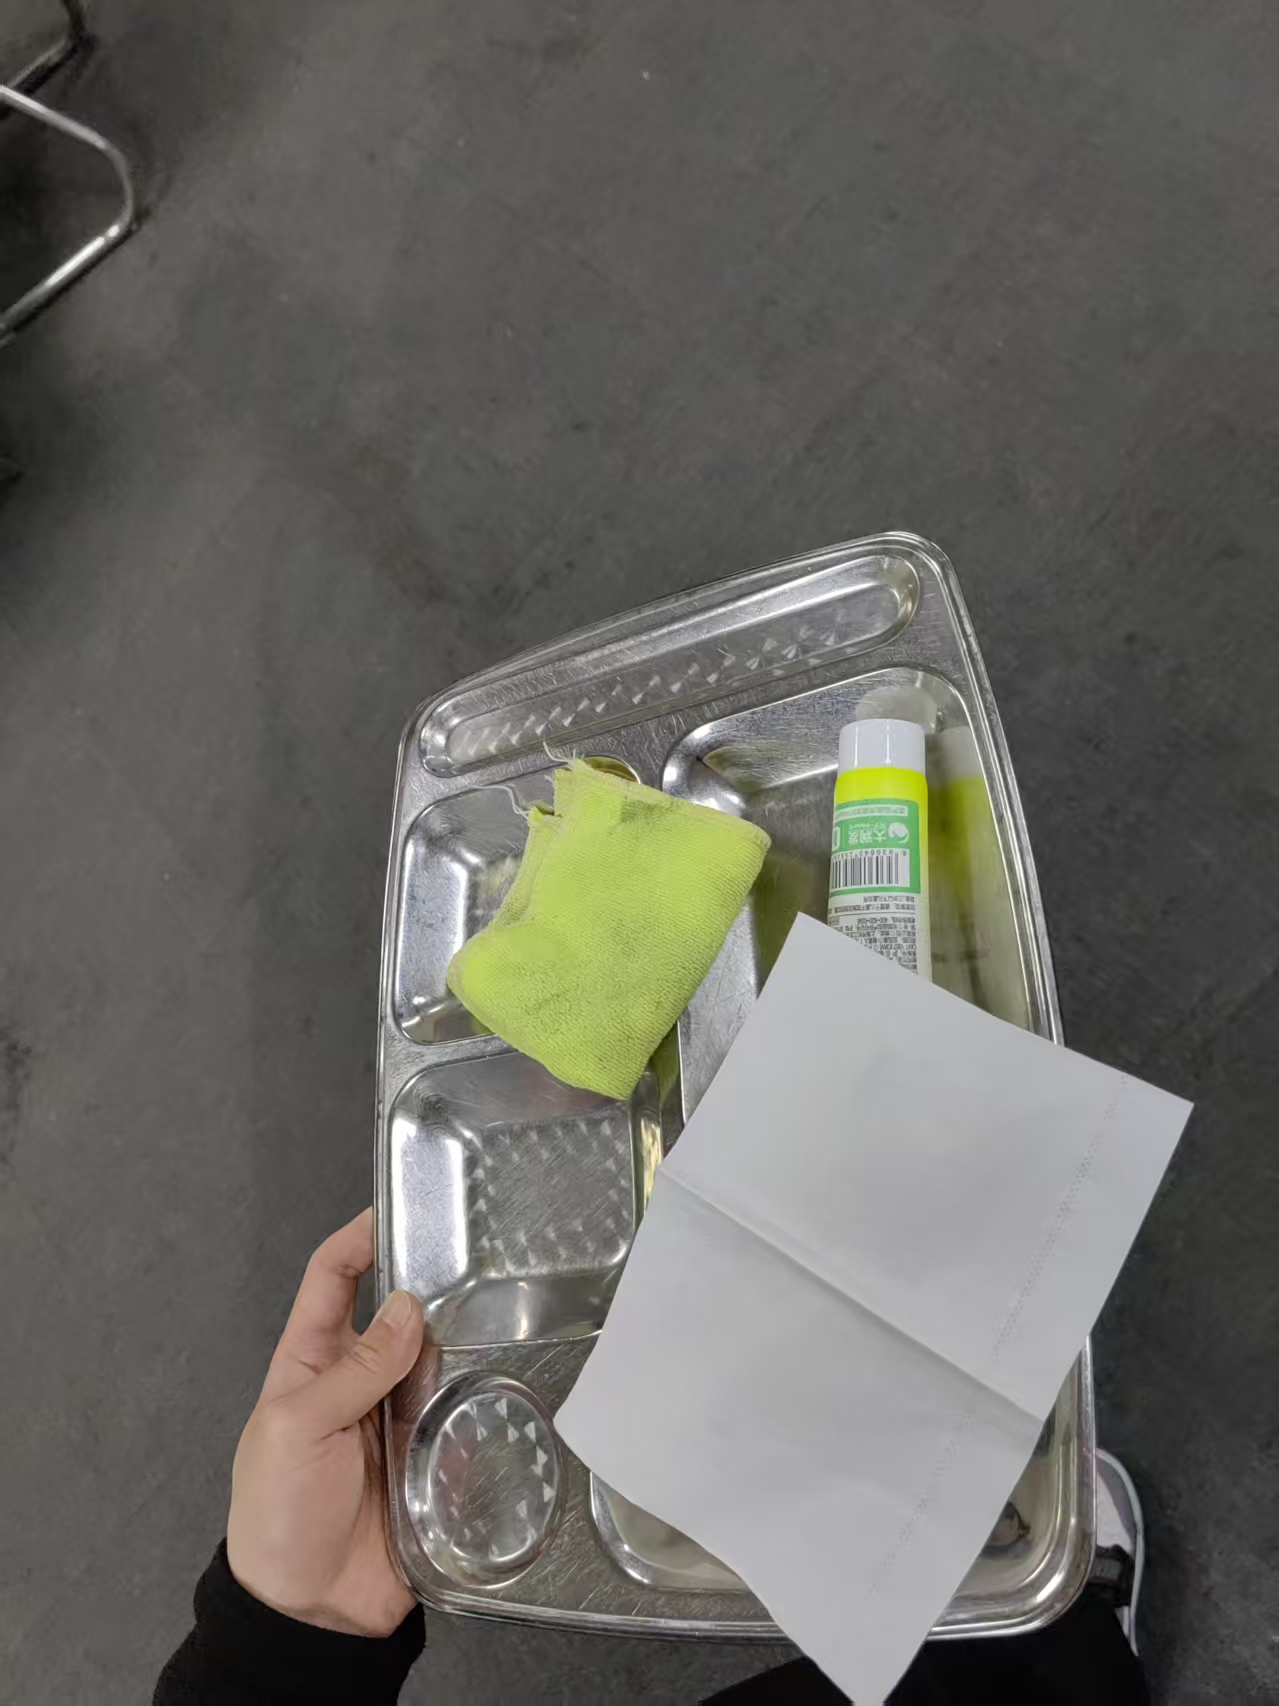mild: (446, 713, 934, 1188)
plate: (372, 529, 1100, 1647)
tissue: (554, 908, 1193, 1706)
